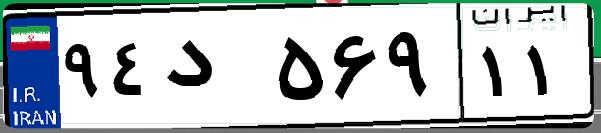1: (475, 38, 525, 113), (525, 38, 570, 115)
4: (110, 28, 158, 98)
5: (270, 28, 330, 110)
6: (330, 28, 385, 110)
9: (385, 28, 445, 110), (57, 26, 110, 100)
د: (158, 20, 270, 120)
